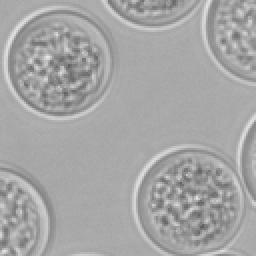picoshell: (2, 6, 112, 120), (132, 144, 244, 254), (0, 166, 54, 254), (200, 0, 254, 84), (102, 0, 200, 30), (236, 114, 254, 206)
